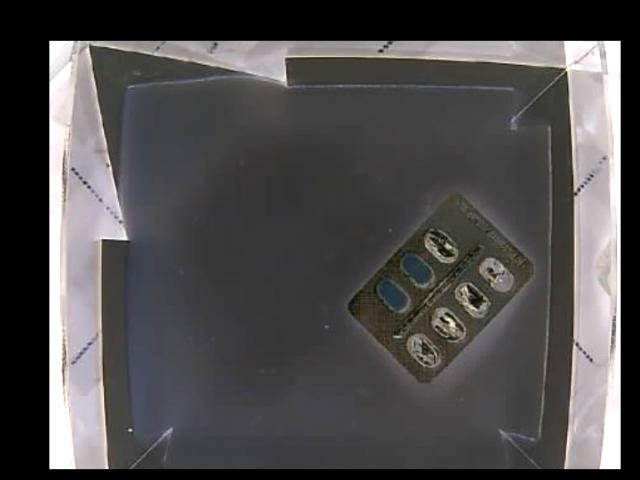Medicine: (345, 194, 535, 380)
